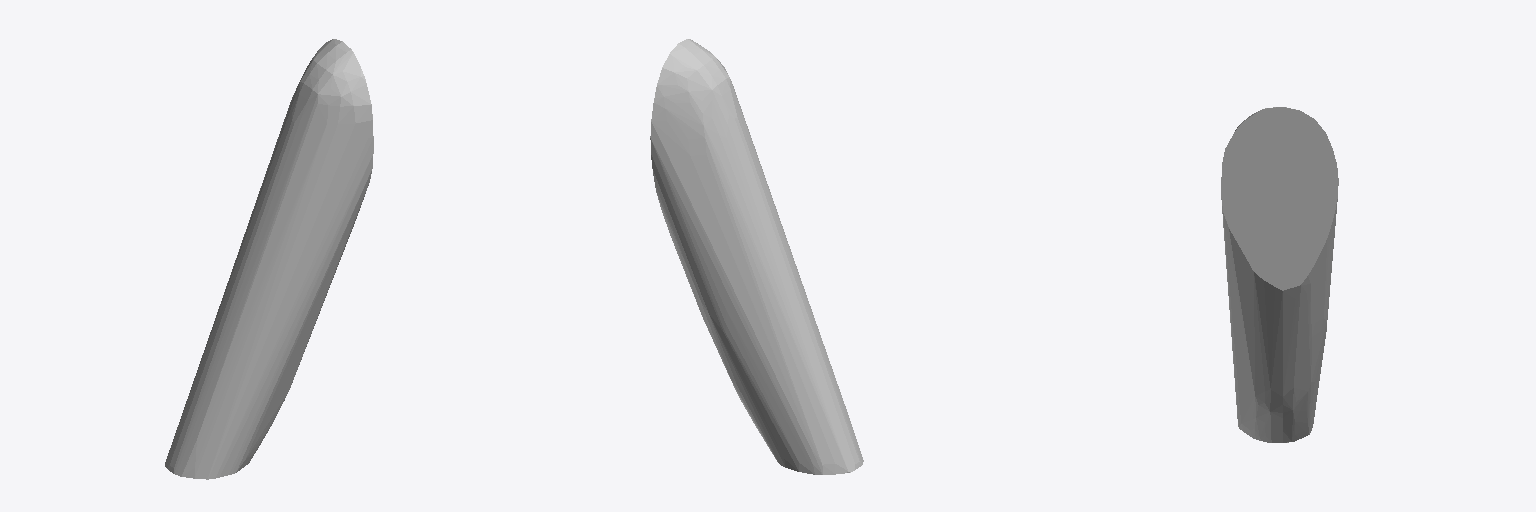
Rendered from woman_collision_7.obj.
3 renders of one model, left to right at view 1: azimuth 30°, elevation 25°; view 2: azimuth 150°, elevation 25°; view 3: azimuth 270°, elevation 25°, orthographic.
Size of the model in its own units: 21.39 by 44.55 by 12.35.